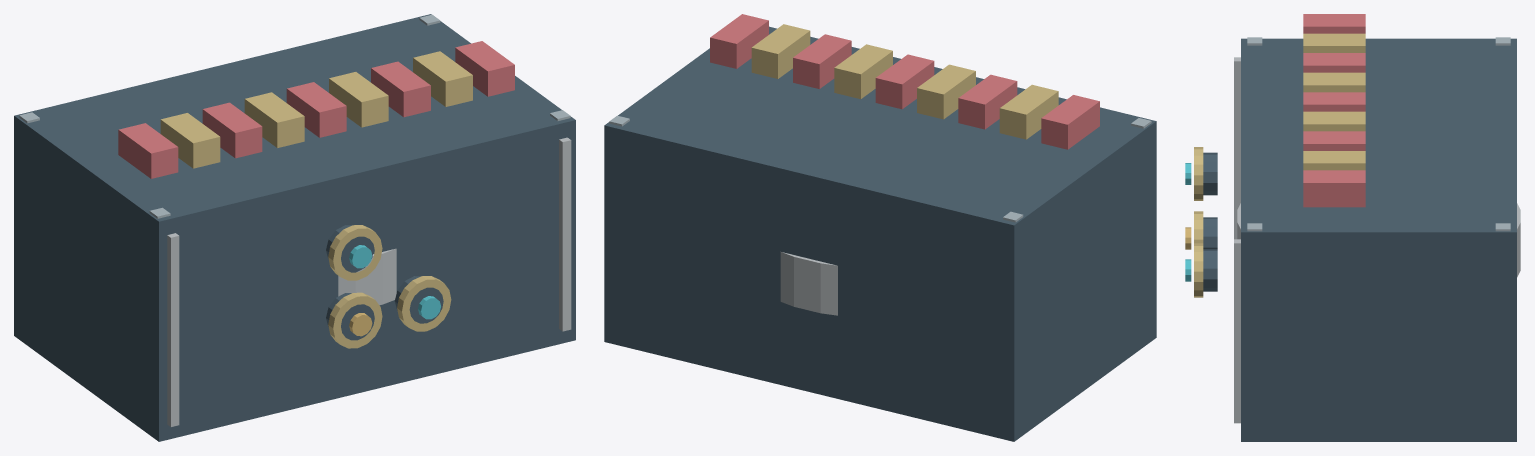
Rendered from 62_L83_SolarGimbalJamSimulator.glb.
3 views of the same model, side by side, from view 1: azimuth 30°, elevation 25°; view 2: azimuth 150°, elevation 25°; view 3: azimuth 270°, elevation 25° (orthographic). The views are drawn at different scales.
Visible parts, largest first — view 1: SolarGimbalJamSimulator_Node_0000, SolarGimbalJamSimulator_Node_0006, SolarGimbalJamSimulator_Node_0005, SolarGimbalJamSimulator_Node_0007, SolarGimbalJamSimulator_Node_0009, SolarGimbalJamSimulator_Node_0010, SolarGimbalJamSimulator_Node_0011, SolarGimbalJamSimulator_Node_0008, SolarGimbalJamSimulator_Node_0012, SolarGimbalJamSimulator_Node_0013, SolarGimbalJamSimulator_Node_0015, SolarGimbalJamSimulator_Node_0014 (+7 smaller); view 2: SolarGimbalJamSimulator_Node_0000, SolarGimbalJamSimulator_Node_0016, SolarGimbalJamSimulator_Node_0007, SolarGimbalJamSimulator_Node_0008, SolarGimbalJamSimulator_Node_0009, SolarGimbalJamSimulator_Node_0011, SolarGimbalJamSimulator_Node_0014, SolarGimbalJamSimulator_Node_0012, SolarGimbalJamSimulator_Node_0015, SolarGimbalJamSimulator_Node_0010, SolarGimbalJamSimulator_Node_0013; view 3: SolarGimbalJamSimulator_Node_0000, SolarGimbalJamSimulator_Node_0015, SolarGimbalJamSimulator_Node_0010, SolarGimbalJamSimulator_Node_0012, SolarGimbalJamSimulator_Node_0006, SolarGimbalJamSimulator_Node_0007, SolarGimbalJamSimulator_Node_0008, SolarGimbalJamSimulator_Node_0009, SolarGimbalJamSimulator_Node_0011, SolarGimbalJamSimulator_Node_0013, SolarGimbalJamSimulator_Node_0014, SolarGimbalJamSimulator_Node_0005 (+6 smaller).
Part boxes in pixels (x1,y1,x2,y2): SolarGimbalJamSimulator_Node_0000: [14, 14, 575, 441]; SolarGimbalJamSimulator_Node_0006: [559, 137, 571, 331]; SolarGimbalJamSimulator_Node_0005: [167, 233, 179, 426]; SolarGimbalJamSimulator_Node_0007: [118, 123, 178, 178]; SolarGimbalJamSimulator_Node_0009: [202, 102, 262, 158]; SolarGimbalJamSimulator_Node_0010: [244, 92, 304, 147]; SolarGimbalJamSimulator_Node_0011: [286, 82, 346, 137]; SolarGimbalJamSimulator_Node_0008: [160, 113, 220, 168]; SolarGimbalJamSimulator_Node_0012: [329, 72, 388, 127]; SolarGimbalJamSimulator_Node_0013: [371, 61, 430, 117]; SolarGimbalJamSimulator_Node_0015: [455, 41, 514, 96]; SolarGimbalJamSimulator_Node_0014: [413, 51, 472, 106]; SolarGimbalJamSimulator_Node_0000: [604, 26, 1156, 441]; SolarGimbalJamSimulator_Node_0016: [780, 252, 837, 315]; SolarGimbalJamSimulator_Node_0007: [1041, 95, 1099, 149]; SolarGimbalJamSimulator_Node_0008: [999, 84, 1058, 139]; SolarGimbalJamSimulator_Node_0009: [958, 74, 1017, 129]; SolarGimbalJamSimulator_Node_0011: [875, 54, 934, 109]; SolarGimbalJamSimulator_Node_0014: [751, 24, 810, 78]; SolarGimbalJamSimulator_Node_0012: [834, 44, 892, 99]; SolarGimbalJamSimulator_Node_0015: [710, 14, 768, 68]; SolarGimbalJamSimulator_Node_0010: [917, 64, 975, 119]; SolarGimbalJamSimulator_Node_0013: [793, 34, 851, 88]; SolarGimbalJamSimulator_Node_0000: [1241, 38, 1516, 441]; SolarGimbalJamSimulator_Node_0015: [1303, 170, 1365, 207]; SolarGimbalJamSimulator_Node_0010: [1303, 72, 1365, 92]; SolarGimbalJamSimulator_Node_0012: [1303, 111, 1365, 131]; SolarGimbalJamSimulator_Node_0006: [1234, 239, 1240, 423]; SolarGimbalJamSimulator_Node_0007: [1303, 14, 1365, 33]; SolarGimbalJamSimulator_Node_0008: [1303, 33, 1365, 52]; SolarGimbalJamSimulator_Node_0009: [1303, 53, 1365, 72]; SolarGimbalJamSimulator_Node_0011: [1303, 92, 1365, 111]; SolarGimbalJamSimulator_Node_0013: [1303, 131, 1365, 150]; SolarGimbalJamSimulator_Node_0014: [1303, 151, 1365, 170]; SolarGimbalJamSimulator_Node_0005: [1234, 57, 1240, 239].
Bounding box in the file's own units: 1.03 × 0.61 × 0.7535.
